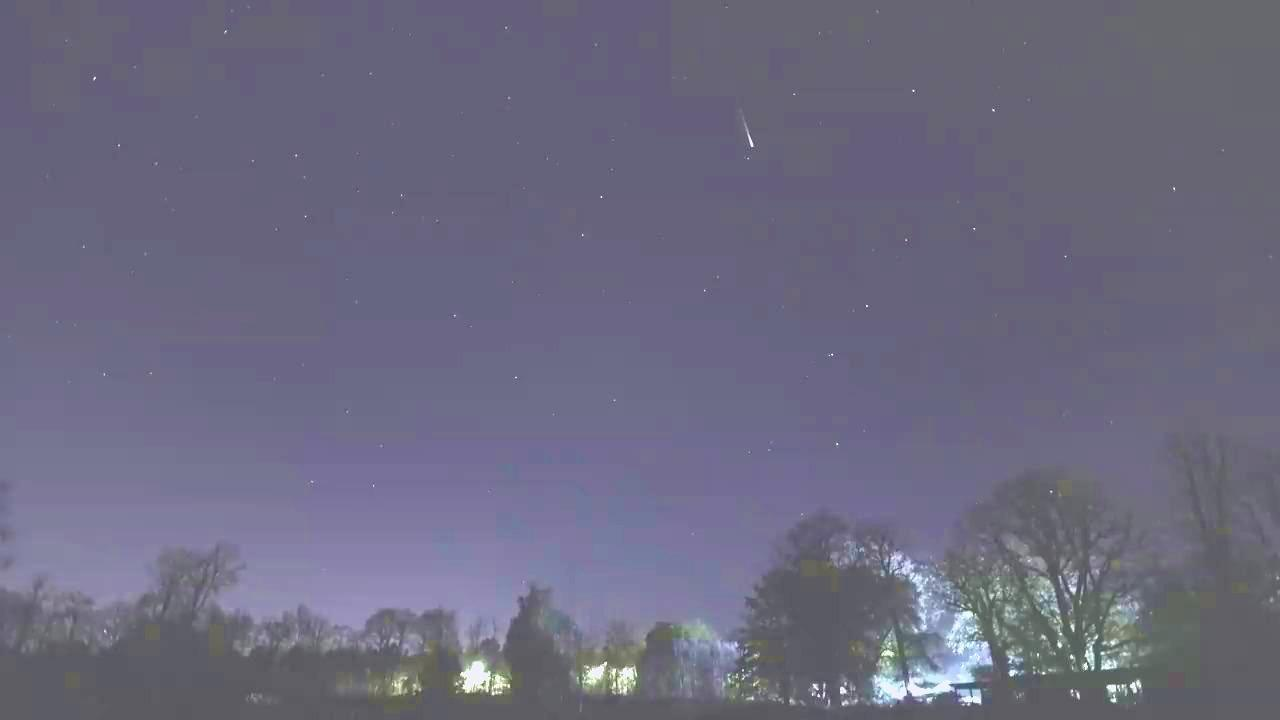meteorite: (694, 110, 798, 152)
